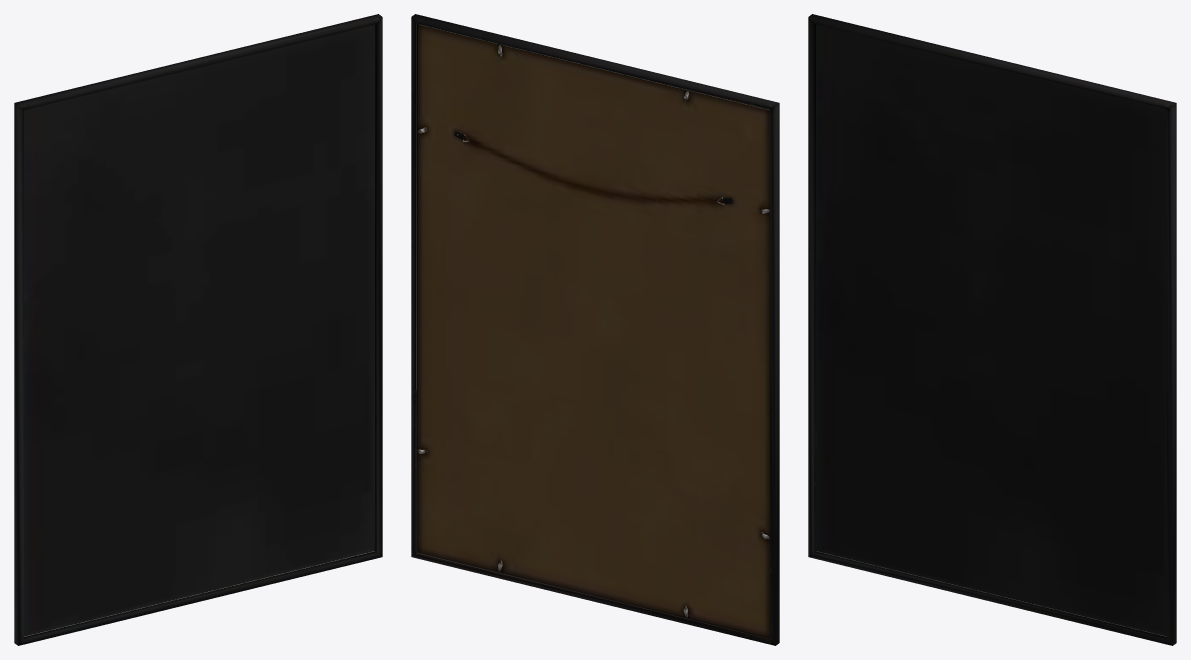
The model's file is hanging_picture_frame_01.glb.
The picture shows the model from 3 angles, left to right: view 1: azimuth 30°, elevation 25°; view 2: azimuth 150°, elevation 25°; view 3: azimuth 330°, elevation 25°; orthographic projection.
Parts seen in each view (by area): view 1: hanging_picture_frame_01; view 2: hanging_picture_frame_01; view 3: hanging_picture_frame_01.
Part boxes in pixels (x1,y1,x2,y2): hanging_picture_frame_01: [14, 14, 382, 645]; hanging_picture_frame_01: [411, 14, 779, 645]; hanging_picture_frame_01: [808, 14, 1176, 645].
Size of the model in its own units: 0.5917 by 0.8387 by 0.0135.
3 materials, 3 textured.
